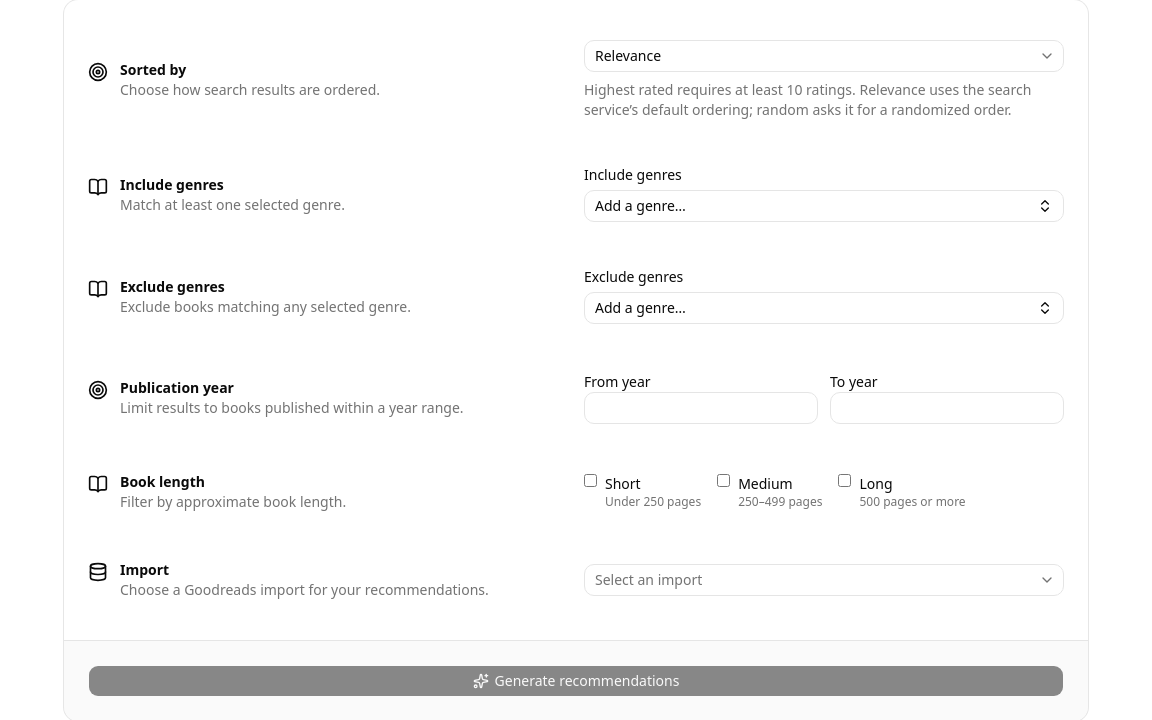
Recommendation controls › shows import metadata and keeps sort and selection local
The image size is (1152, 720).
Click the dropdown labelled "import" at (649, 580), box [584,564,1064,596]
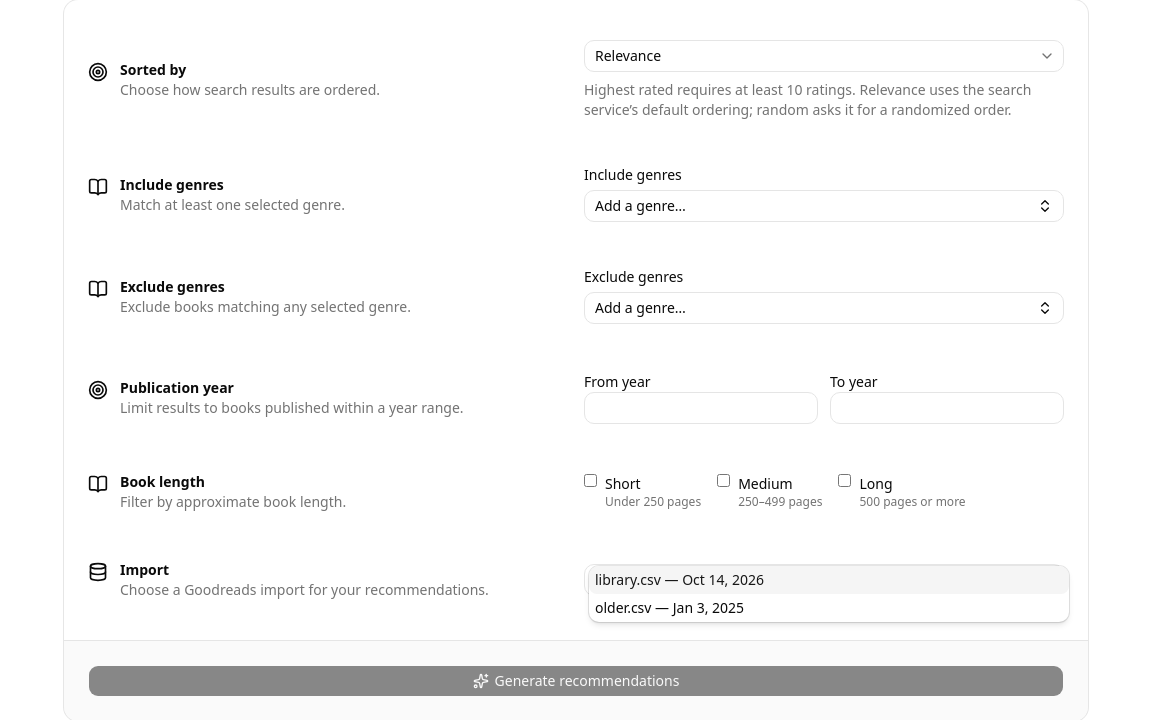
Now the option "library.csv — Oct 14, 2026" is shown
Click the option "library.csv — Oct 14, 2026" at (628, 580), box [589,566,1069,594]
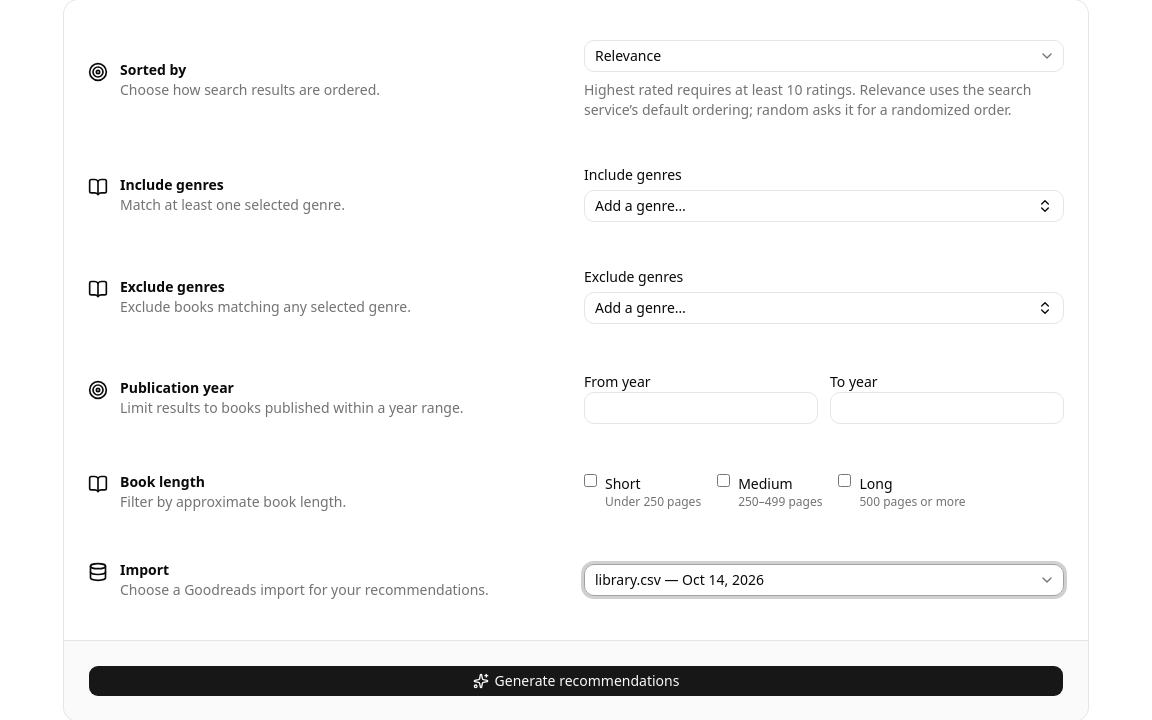
Now the dropdown named "Import" shows "library.csv", box [584,564,1064,596]
